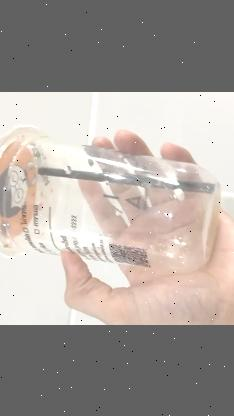Others: (0, 125, 219, 270)
